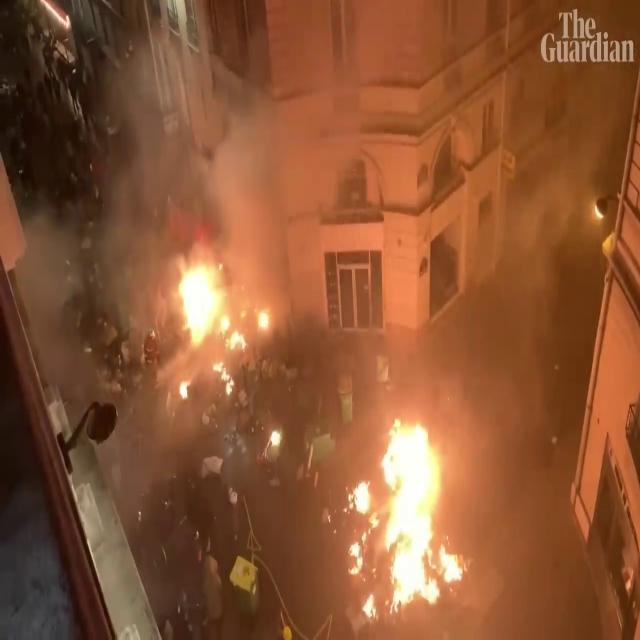Fire: (434, 37, 638, 515), (347, 405, 467, 623), (170, 250, 244, 356)
Smoke: (28, 1, 332, 476)
